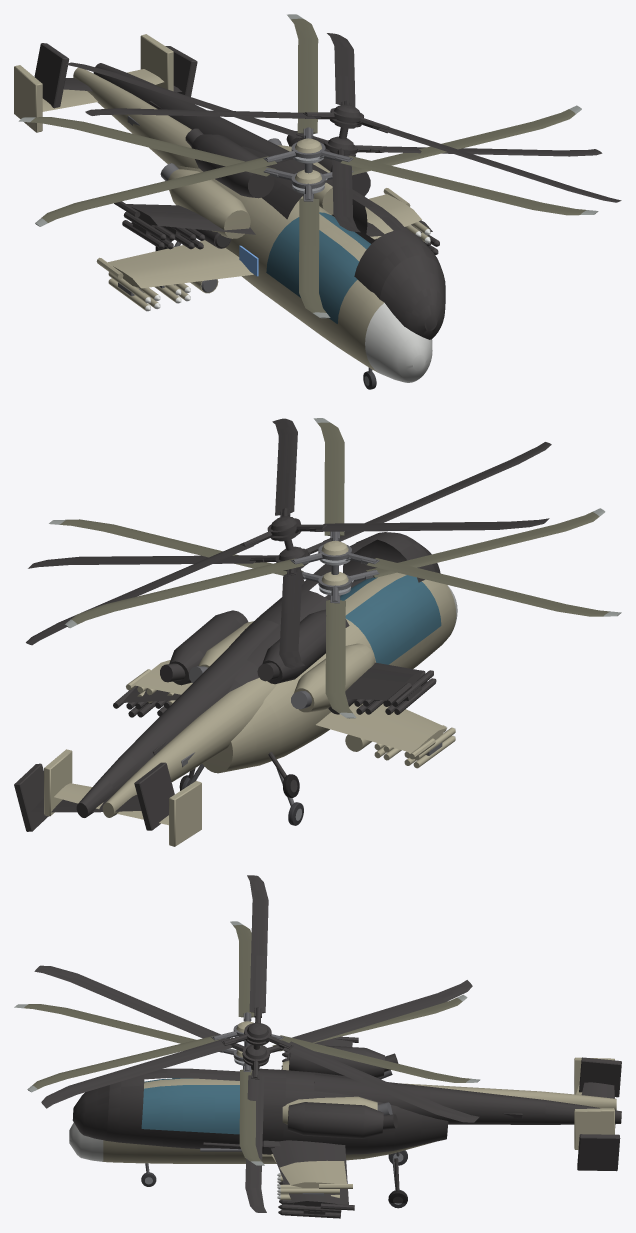
Rendered from gunship__ka_52m.glb.
3 views of the same model, one above another, from view 1: azimuth 30°, elevation 25°; view 2: azimuth 150°, elevation 25°; view 3: azimuth 270°, elevation 25° (orthographic). The views are drawn at different scales.
Visible parts, largest first — view 1: Wreck, Fuselage_Mesh, Rotor_Main_2_Mesh, Rotor_Main_Mesh, Stub_Wings_Stores_Mesh, Engines_Mesh; view 2: Wreck, Fuselage_Mesh, Rotor_Main_2_Mesh, Rotor_Main_Mesh, Stub_Wings_Stores_Mesh, Engines_Mesh; view 3: Wreck, Fuselage_Mesh, Rotor_Main_2_Mesh, Rotor_Main_Mesh, Stub_Wings_Stores_Mesh, Engines_Mesh, Landing_Gear_Mesh.
Boxes of the visible parts, x1,y1,x2,y2 form: Wreck: (34, 33, 621, 339); Fuselage_Mesh: (14, 34, 432, 382); Rotor_Main_2_Mesh: (35, 14, 598, 226); Rotor_Main_Mesh: (18, 105, 581, 318); Stub_Wings_Stores_Mesh: (96, 188, 430, 311); Engines_Mesh: (160, 138, 333, 238); Wreck: (14, 418, 551, 831); Fuselage_Mesh: (44, 572, 457, 846); Rotor_Main_2_Mesh: (65, 418, 621, 628); Rotor_Main_Mesh: (49, 508, 605, 718); Stub_Wings_Stores_Mesh: (126, 660, 455, 768); Engines_Mesh: (189, 621, 375, 712); Wreck: (34, 875, 621, 1218); Fuselage_Mesh: (69, 1057, 616, 1163); Rotor_Main_2_Mesh: (27, 921, 480, 1092); Rotor_Main_Mesh: (14, 994, 467, 1165); Stub_Wings_Stores_Mesh: (271, 1154, 352, 1199); Engines_Mesh: (282, 1060, 392, 1124); Landing_Gear_Mesh: (141, 1150, 407, 1208).
Size of what is drawn, in the model's own units: 15.02 by 6.97 by 17.
